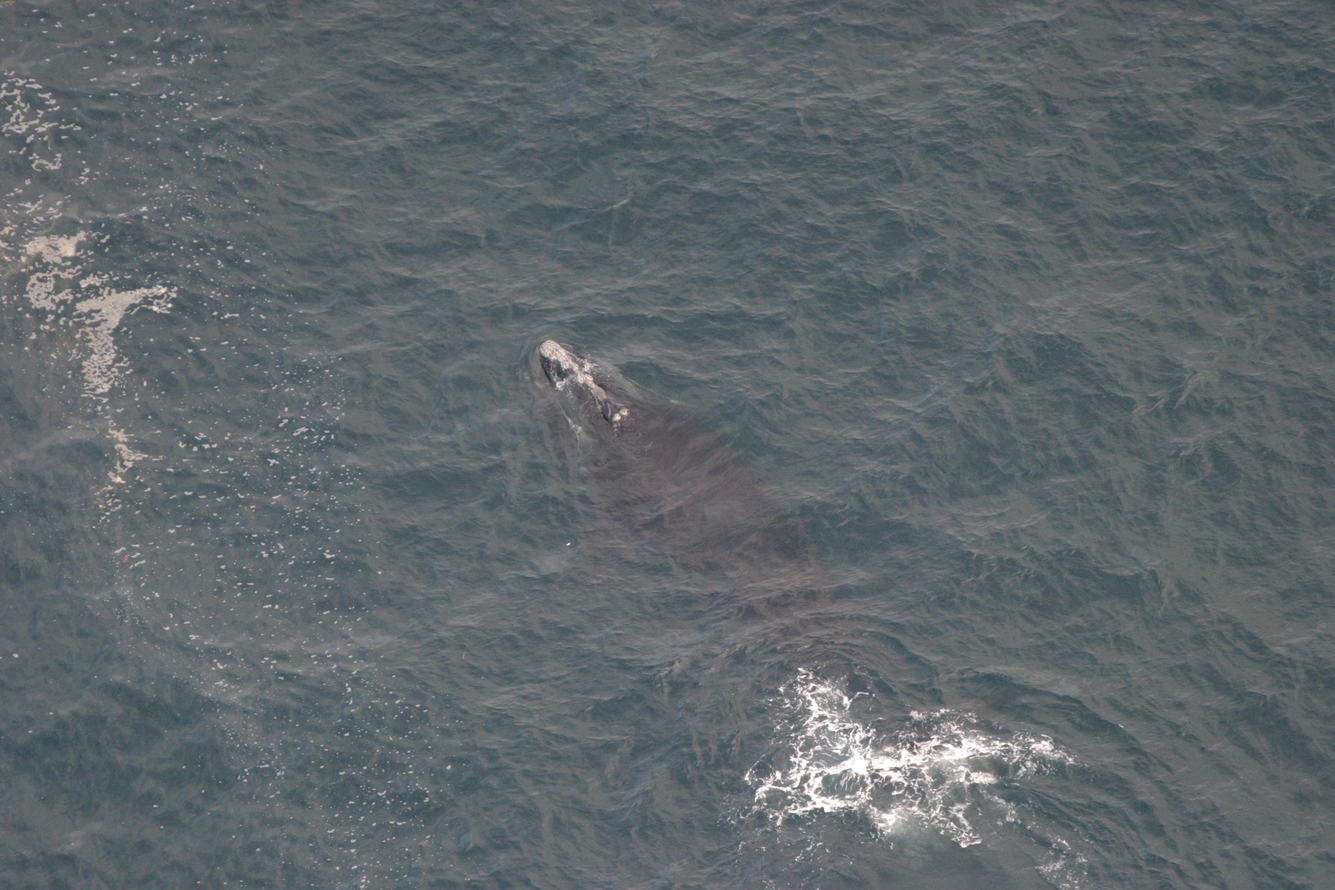whale: (532, 334, 863, 685)
